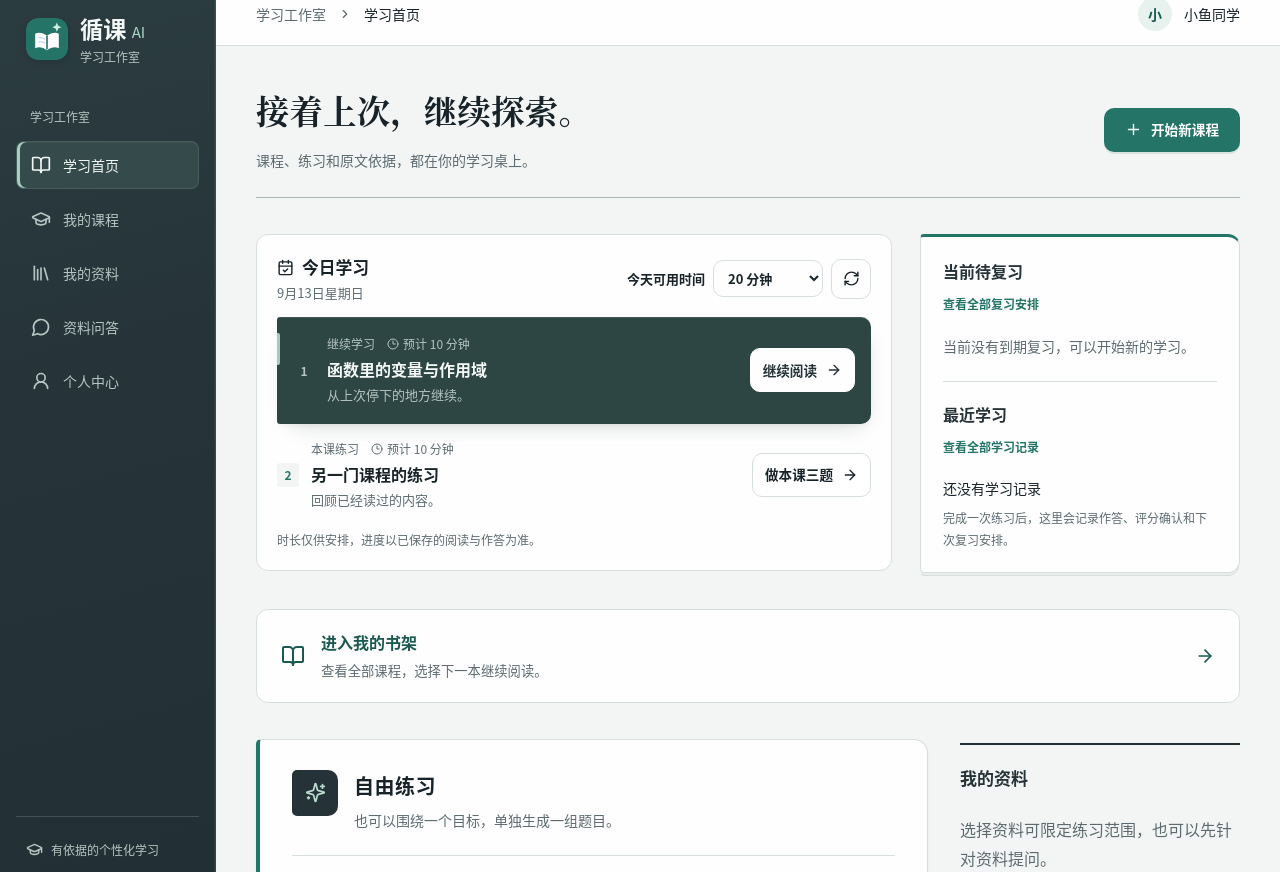
Test: one lesson learning flow › keeps the server today order and enters its first suggested lesson
The width and height of the screenshot is (1280, 872).
Click the link "继续阅读" at (802, 370), box [750,348,855,392]
(page scrolled)
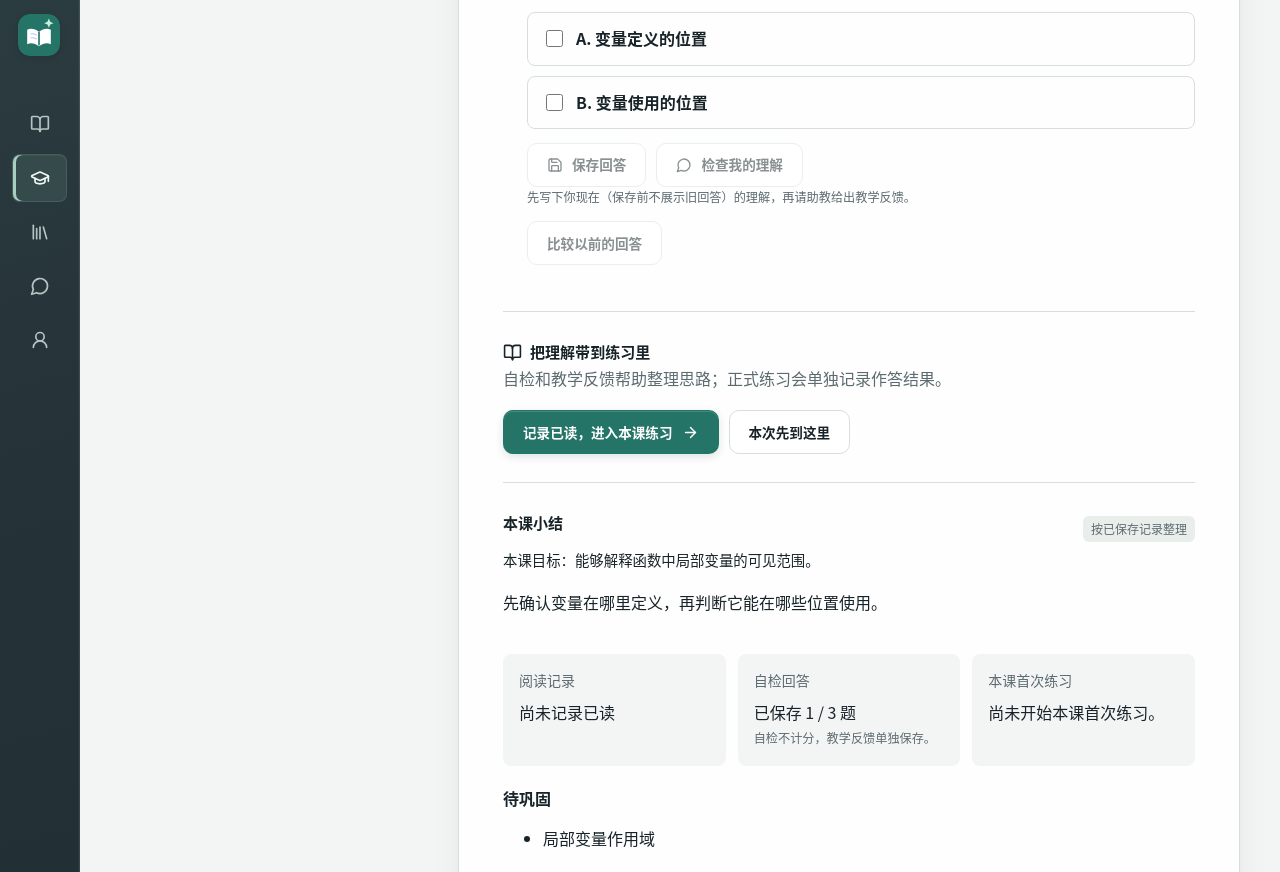
Check: the button "记录已读，进入本课练习" is shown, box [503,410,718,454]
